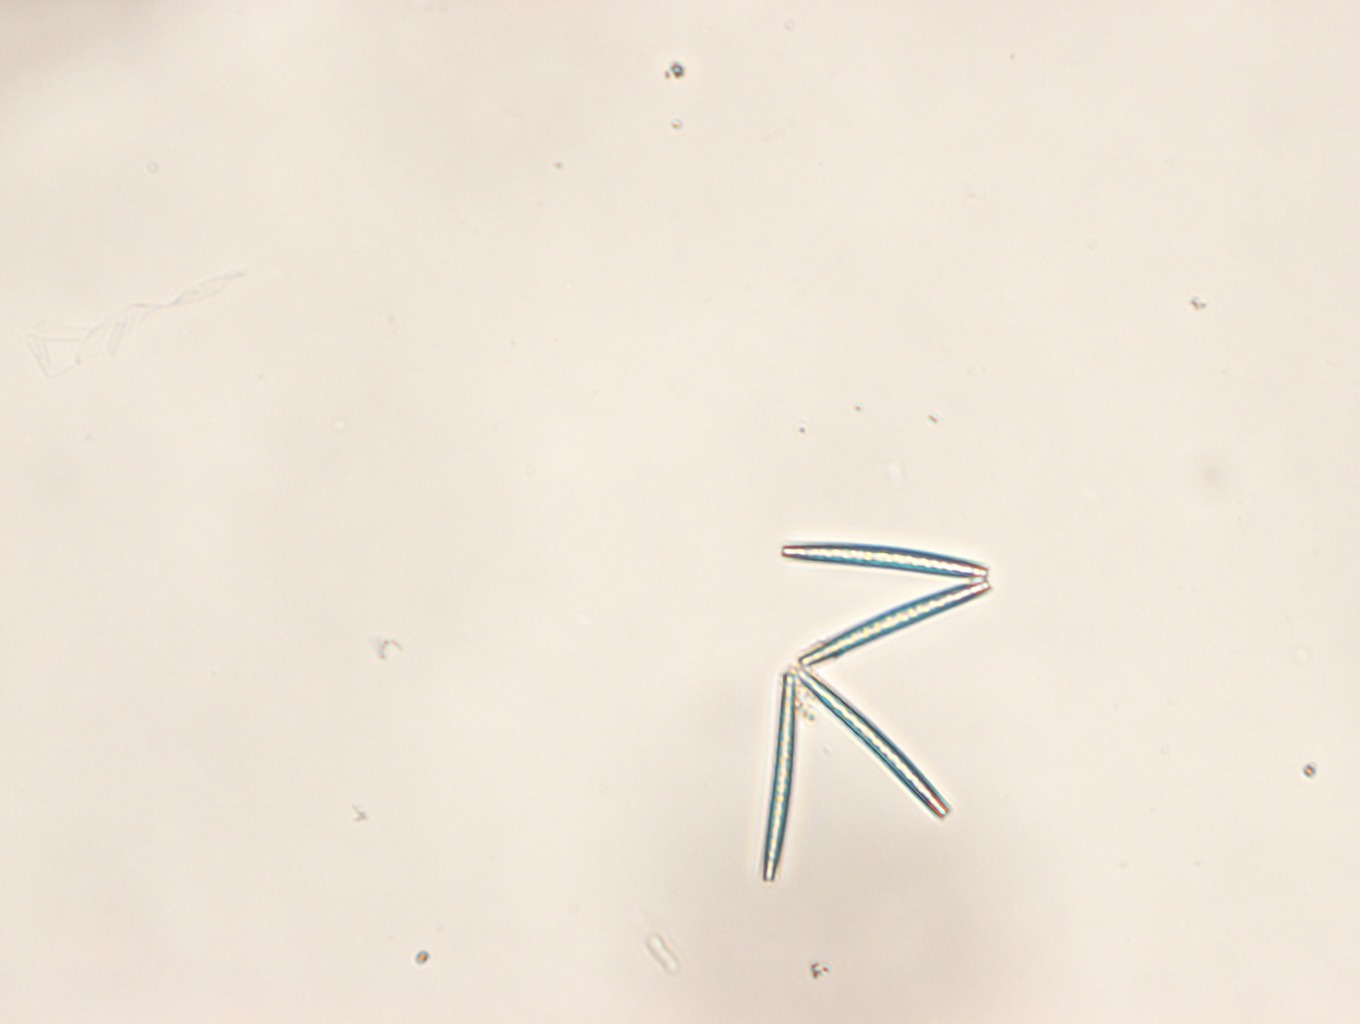thalassionema nitzschioides: (764, 544, 992, 885)
